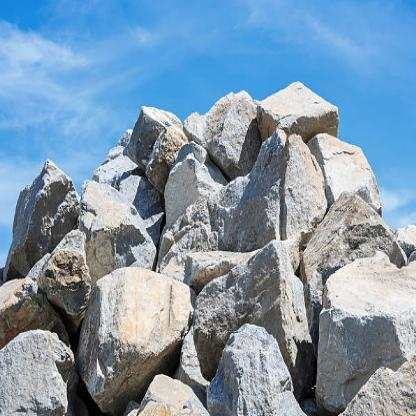Sedimentary_Limestone: (79, 264, 190, 413), (198, 240, 312, 382), (319, 253, 415, 409), (298, 194, 410, 293), (231, 128, 325, 241), (208, 326, 303, 415), (3, 164, 75, 270), (185, 93, 273, 168), (0, 330, 75, 415), (126, 94, 194, 184), (253, 82, 344, 148), (315, 130, 382, 214), (338, 352, 416, 415), (70, 173, 137, 244), (37, 232, 89, 316), (147, 126, 196, 188)
